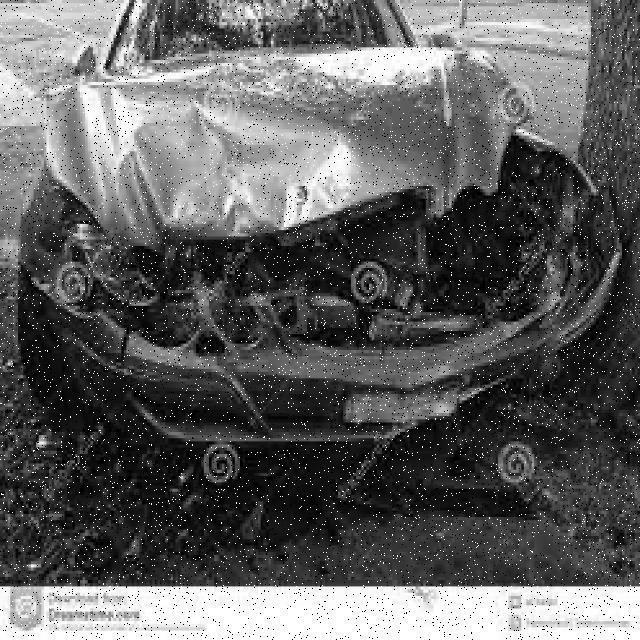bonnet-dent: (39, 44, 529, 264)
front-bumper-dent: (42, 256, 537, 451)
